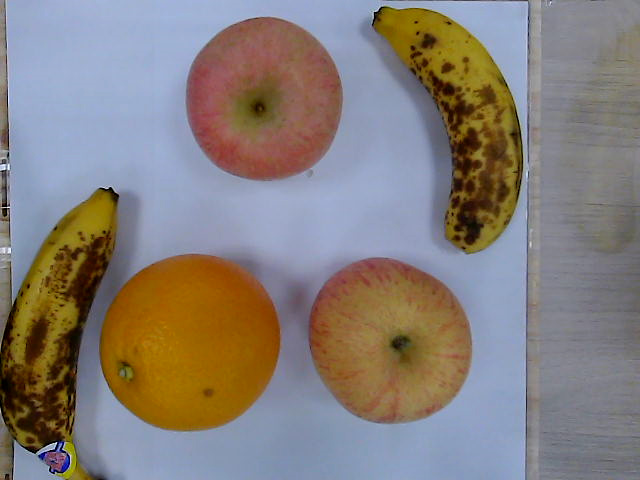fresh_apple: (311, 259, 474, 423), (187, 17, 345, 182)
fresh_orange: (100, 254, 282, 430)
rotten_banana: (371, 5, 525, 255), (1, 191, 120, 480)
